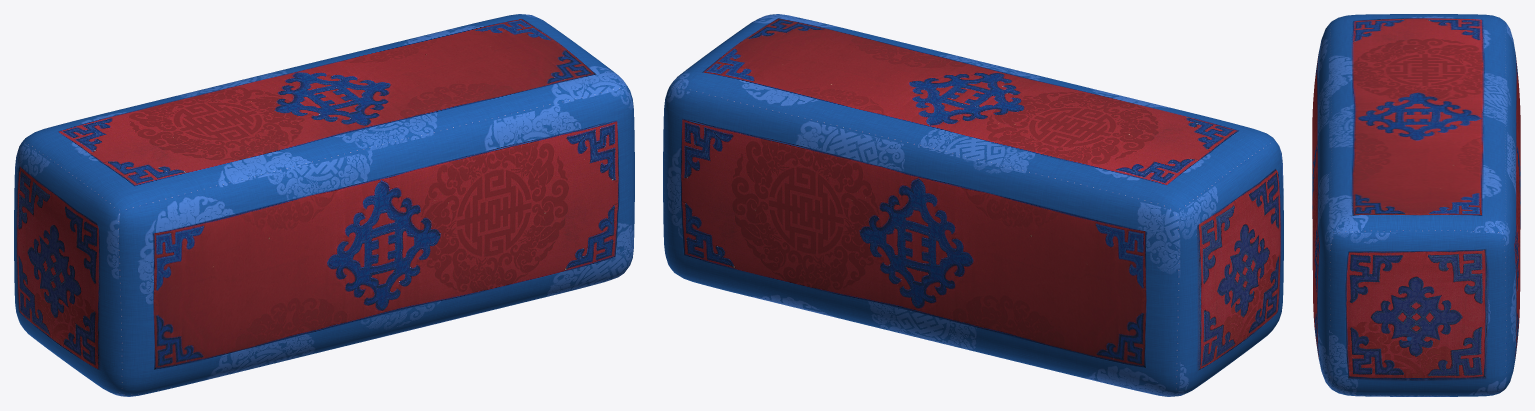
File: SM_ArmrestCushion520.fbx
The picture shows the model from 3 angles, left to right: view 1: azimuth 30°, elevation 25°; view 2: azimuth 150°, elevation 25°; view 3: azimuth 270°, elevation 25°; orthographic projection. The views are drawn at different scales.
Visible parts, largest first — view 1: SM_ArmrestCushion520; view 2: SM_ArmrestCushion520; view 3: SM_ArmrestCushion520.
Part boxes in pixels (box(x1,y1,x2,y2)): SM_ArmrestCushion520: box(14, 14, 634, 396); SM_ArmrestCushion520: box(663, 14, 1283, 396); SM_ArmrestCushion520: box(1312, 14, 1520, 396).
Size of the model in its own units: 65.1 by 24.49 by 25.08.
